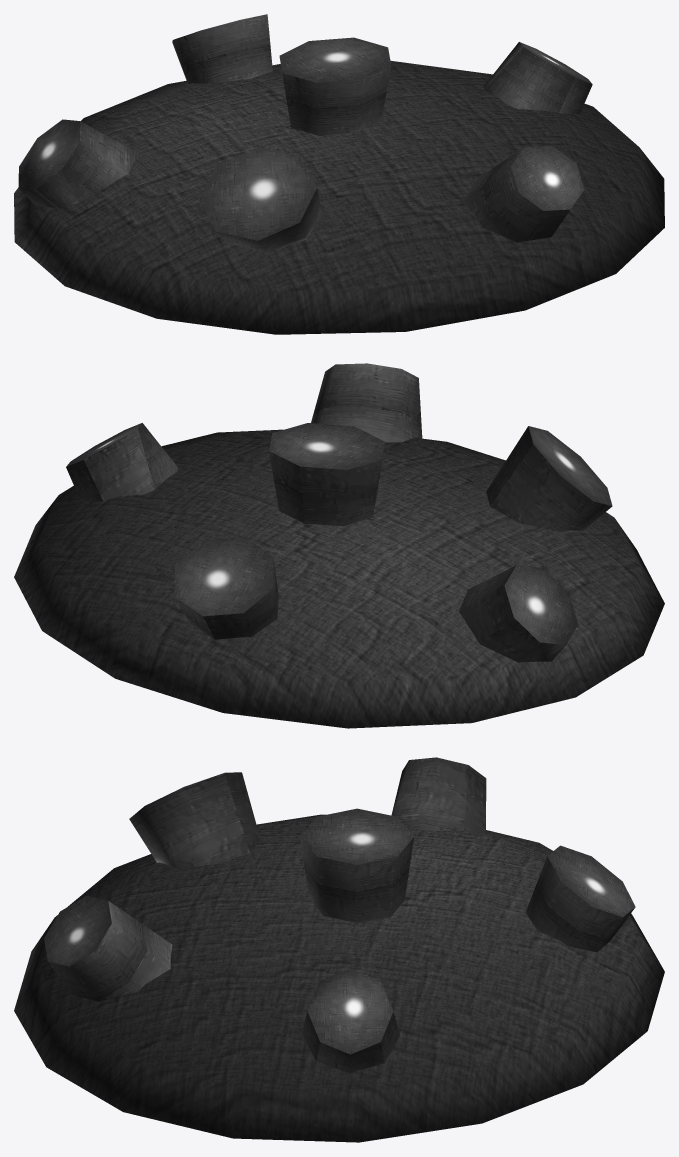
File: nuke.dae
3 renders of one model, top to bottom at view 1: azimuth 30°, elevation 25°; view 2: azimuth 150°, elevation 25°; view 3: azimuth 270°, elevation 25°, orthographic. The views are drawn at different scales.
Parts seen in each view (by area): view 1: nuke; view 2: nuke; view 3: nuke.
Part boxes in pixels (x1=…): nuke: x1=14, y1=14, x2=664, y2=334; nuke: x1=14, y1=363, x2=664, y2=728; nuke: x1=14, y1=757, x2=664, y2=1142.
Size of the model in its own units: 0.3324 by 0.3024 by 0.0803.
